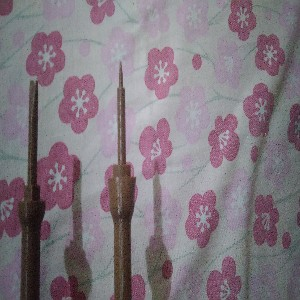obeng: (17, 80, 46, 300)
solder: (106, 59, 137, 300)
